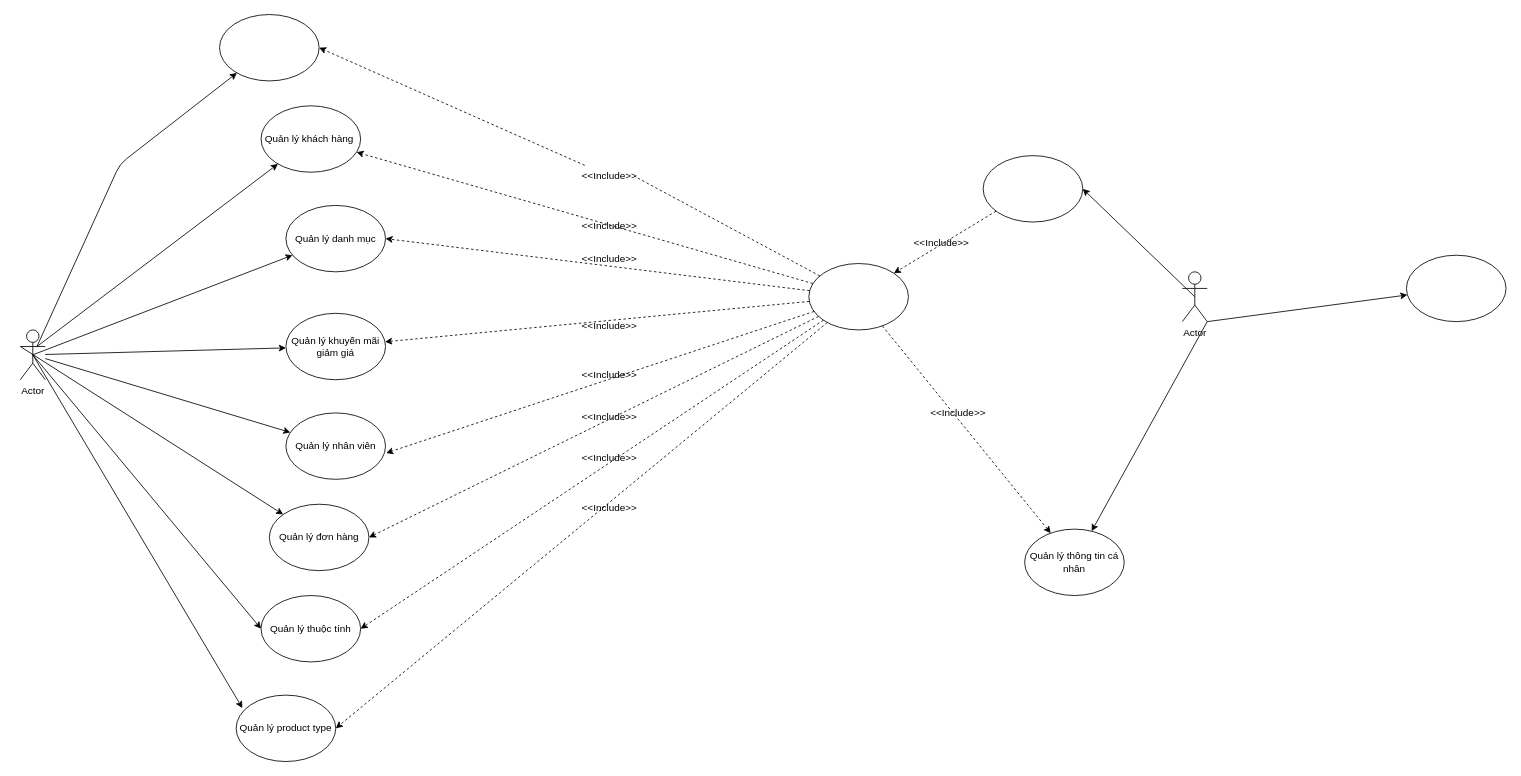
Some shapes in this 1521 by 776 pixel diagram are drawn without their labels. Here are the shapes that lost their labels. From the top down, the centre of each, then its label:
At (269,47): "Quản ly sản phẩm".
At (1032,188): "Đăng ký".
At (858,296): "Đăng nhập".
At (1456,288): "sử dụng tài khoản".
